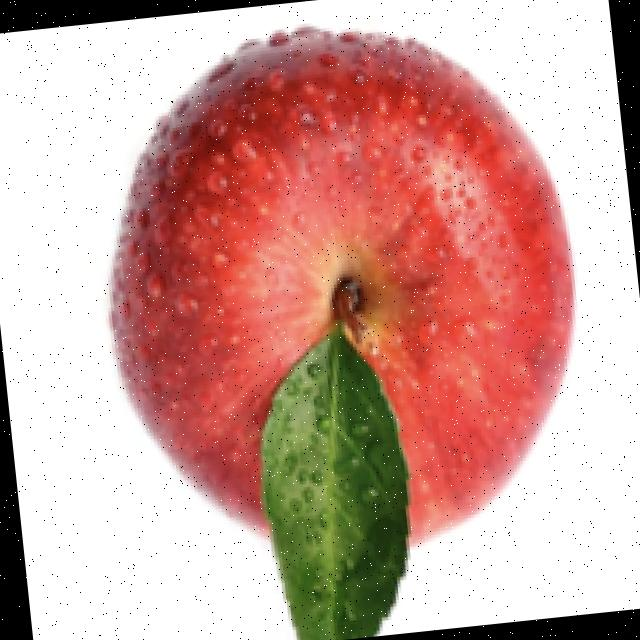apple: (101, 22, 580, 640)
